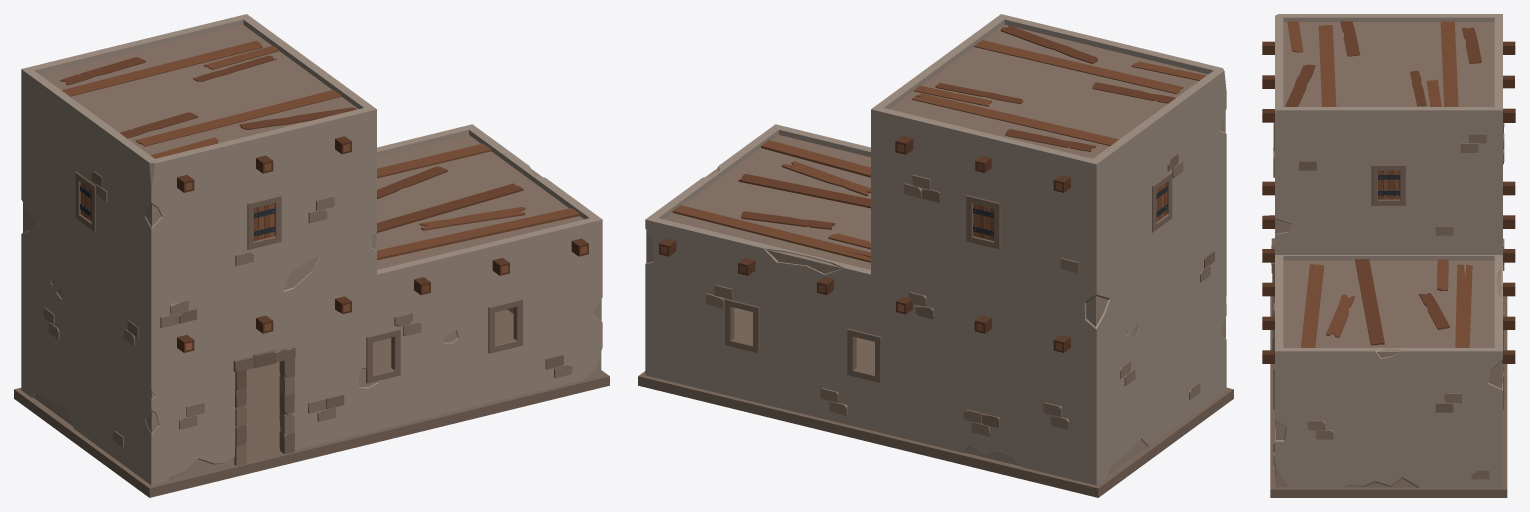
File: House_04L.fbx
3 views of the same model, side by side, from view 1: azimuth 30°, elevation 25°; view 2: azimuth 150°, elevation 25°; view 3: azimuth 270°, elevation 25° (orthographic). The views are drawn at different scales.
Visible parts, largest first — view 1: House_04L; view 2: House_04L; view 3: House_04L.
Part boxes in pixels (x1=…): House_04L: x1=14, y1=14, x2=609, y2=497; House_04L: x1=638, y1=14, x2=1233, y2=497; House_04L: x1=1262, y1=14, x2=1515, y2=497.
Size of the model in its own units: 1020 by 700 by 555.
